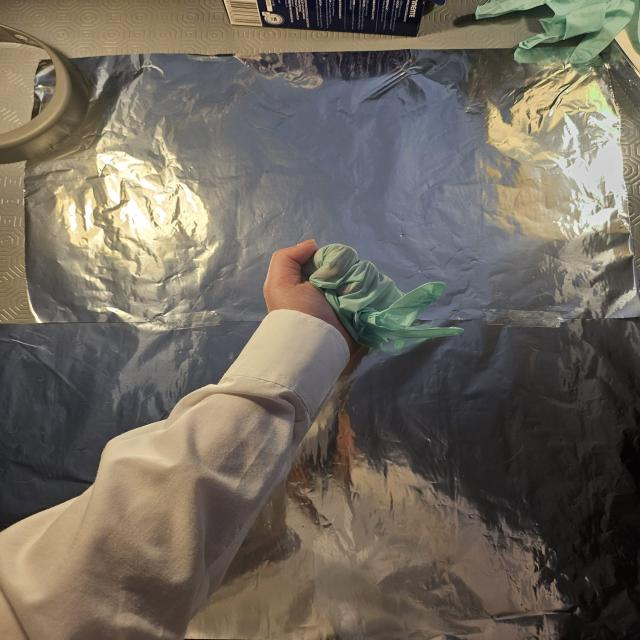glove_partial: (262, 238, 464, 360)
